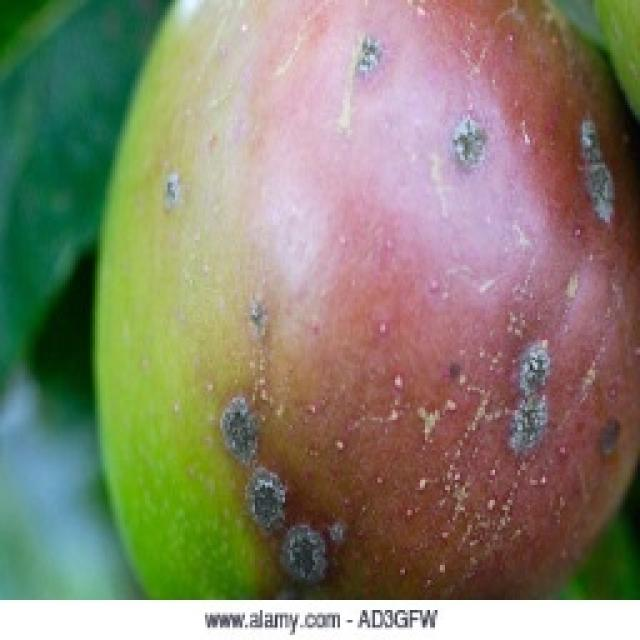defective: (90, 0, 638, 598)
